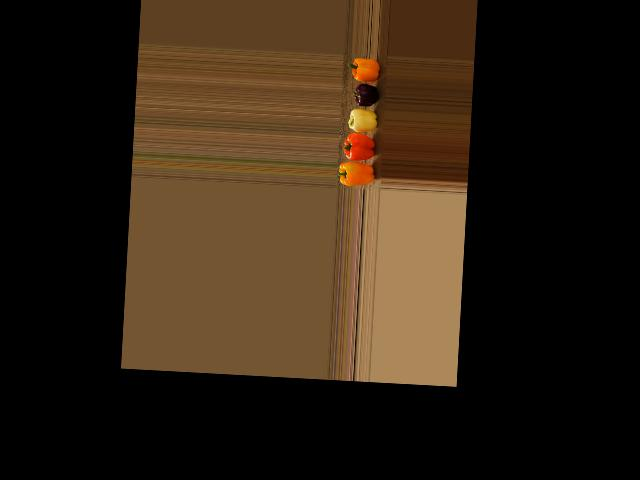bell_pepper: (346, 54, 386, 80)
